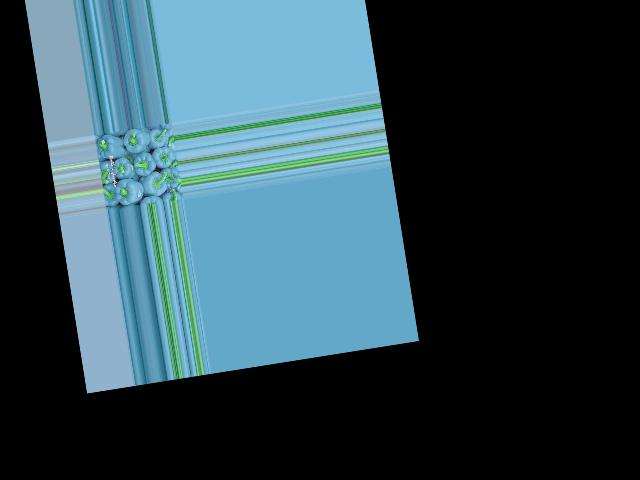bell_pepper: (101, 181, 121, 210)
